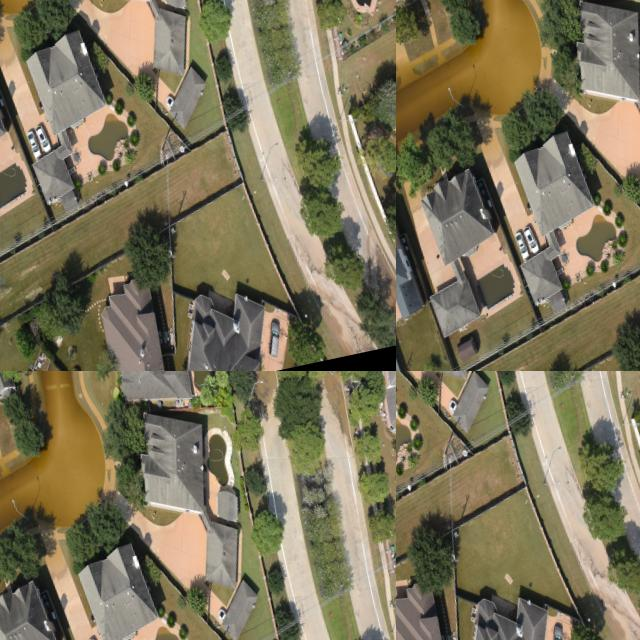fire: (283, 371, 396, 640), (41, 371, 161, 469)
